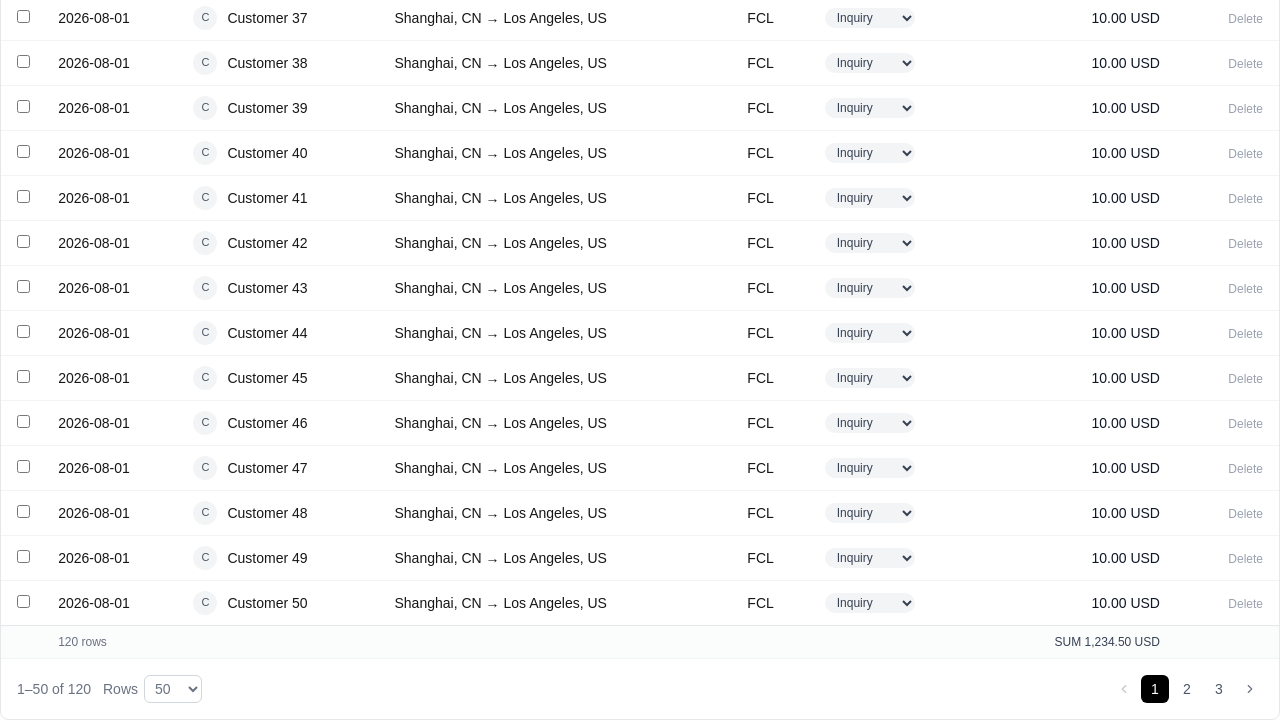
ShipmentsTable › debounces the search box and sends it as the q param, resetting to page 0
(page scrolled)
Expected: the text "1–50 of 120" is shown, [17,678,91,698]
Click the button named "Next page".
click(1250, 688)  # box [1237,676,1263,702]
(page scrolled)
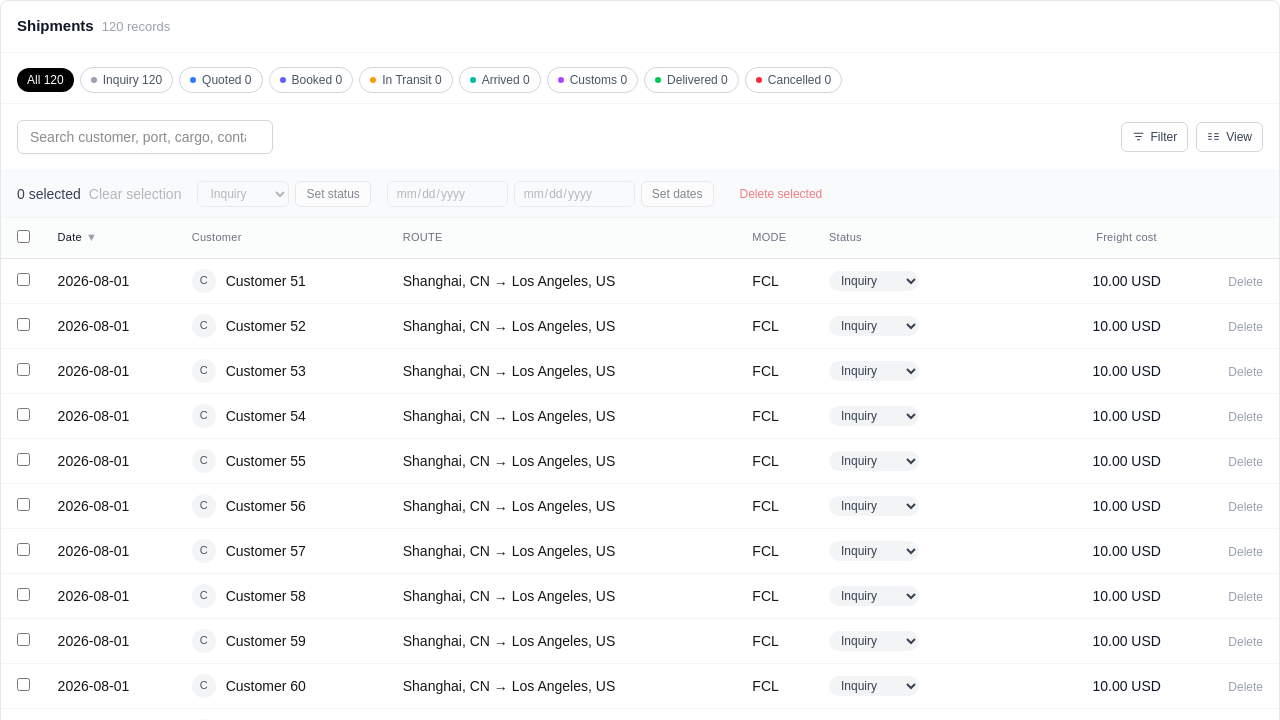
Type "acme" into the search field with placeholder "Search customer, port, cargo, container…".
click(145, 136); type("acme")  # box [17,120,273,154]
(page scrolled)
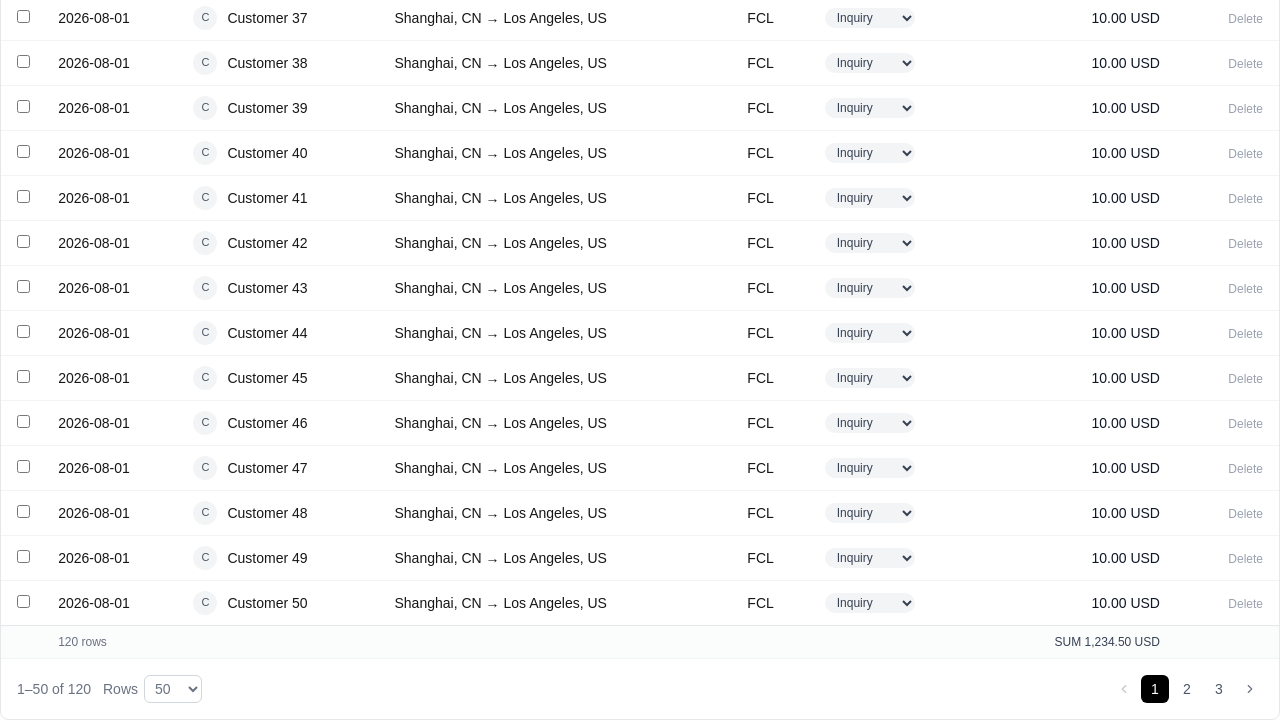
Result: the text "1–50 of 120" is shown at [17,678,91,698]
